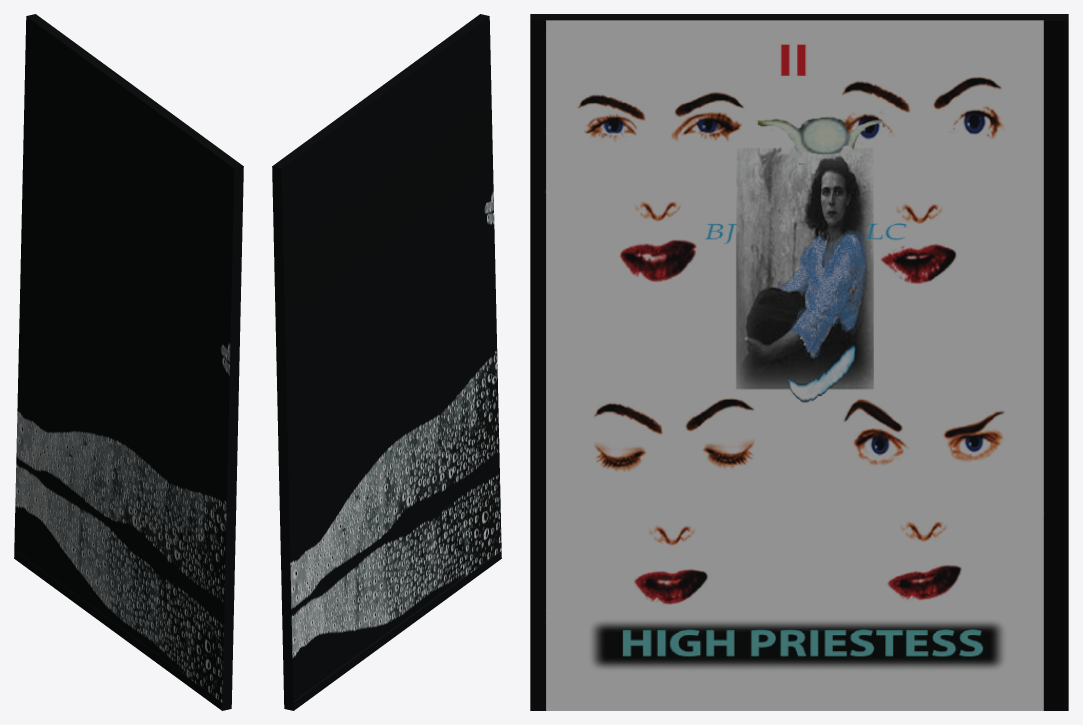
The picture shows the model from 3 angles, left to right: view 1: azimuth 30°, elevation 25°; view 2: azimuth 150°, elevation 25°; view 3: azimuth 270°, elevation 25°; orthographic projection. The views are drawn at different scales.
Visible parts, largest first — view 1: pCube5; view 2: pCube5; view 3: pCube5.
Part boxes in pixels (x1,y1,x2,y2): pCube5: [14, 14, 243, 710]; pCube5: [272, 14, 501, 710]; pCube5: [530, 14, 1068, 710].
Bounding box in the file's own units: 0.0259 × 0.6182 × 0.4319.
1 material, 1 textured.
